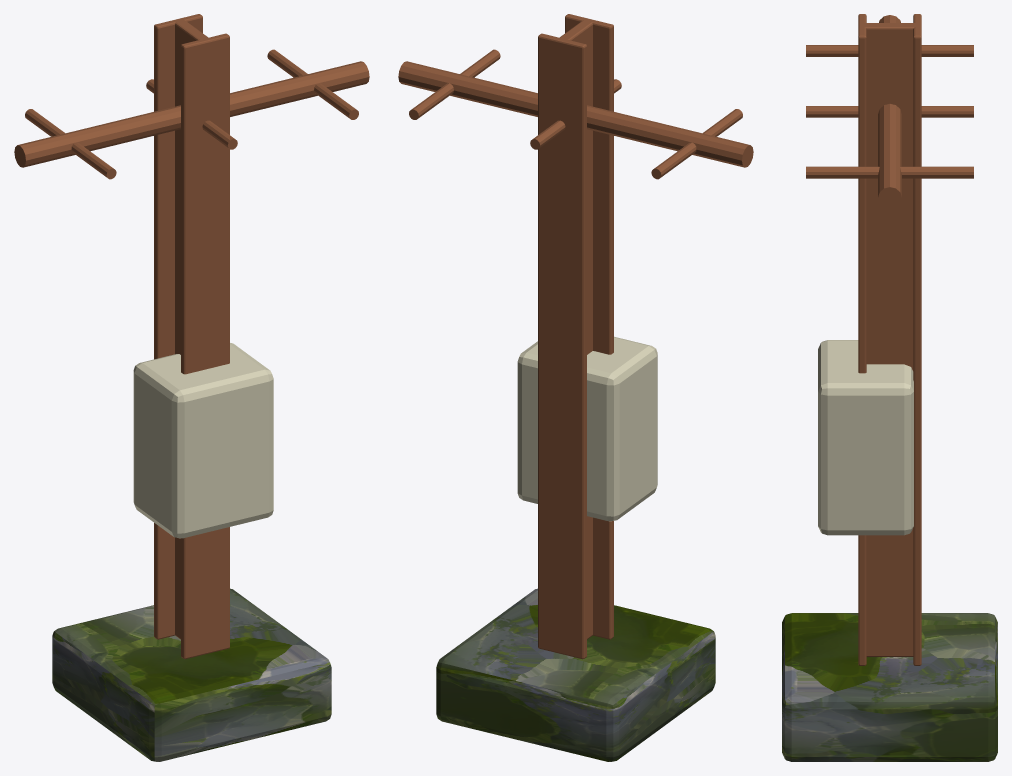
Rendered from Relay_Mast_Barren.glb.
3 views of the same model, side by side, from view 1: azimuth 30°, elevation 25°; view 2: azimuth 150°, elevation 25°; view 3: azimuth 270°, elevation 25° (orthographic). The views are drawn at different scales.
Visible parts, largest first — view 1: Structure; view 2: Structure; view 3: Structure.
Part boxes in pixels (x1,y1,x2,y2): Structure: (14,14,369,761); Structure: (398,14,753,761); Structure: (782,14,997,761).
Size of the model in its own units: 1.7 by 3.2 by 0.9.
Materials: 3 (1 with a texture image).
